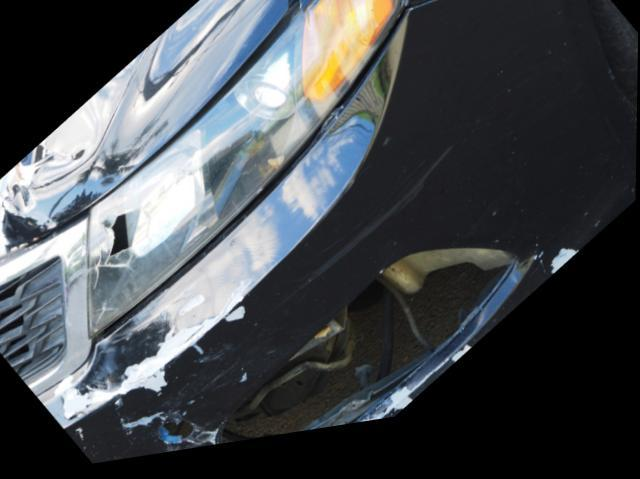dent: (0, 34, 167, 253)
lamp broken: (87, 0, 406, 343)
scratch: (47, 288, 260, 455), (364, 352, 472, 434), (549, 256, 589, 295)
